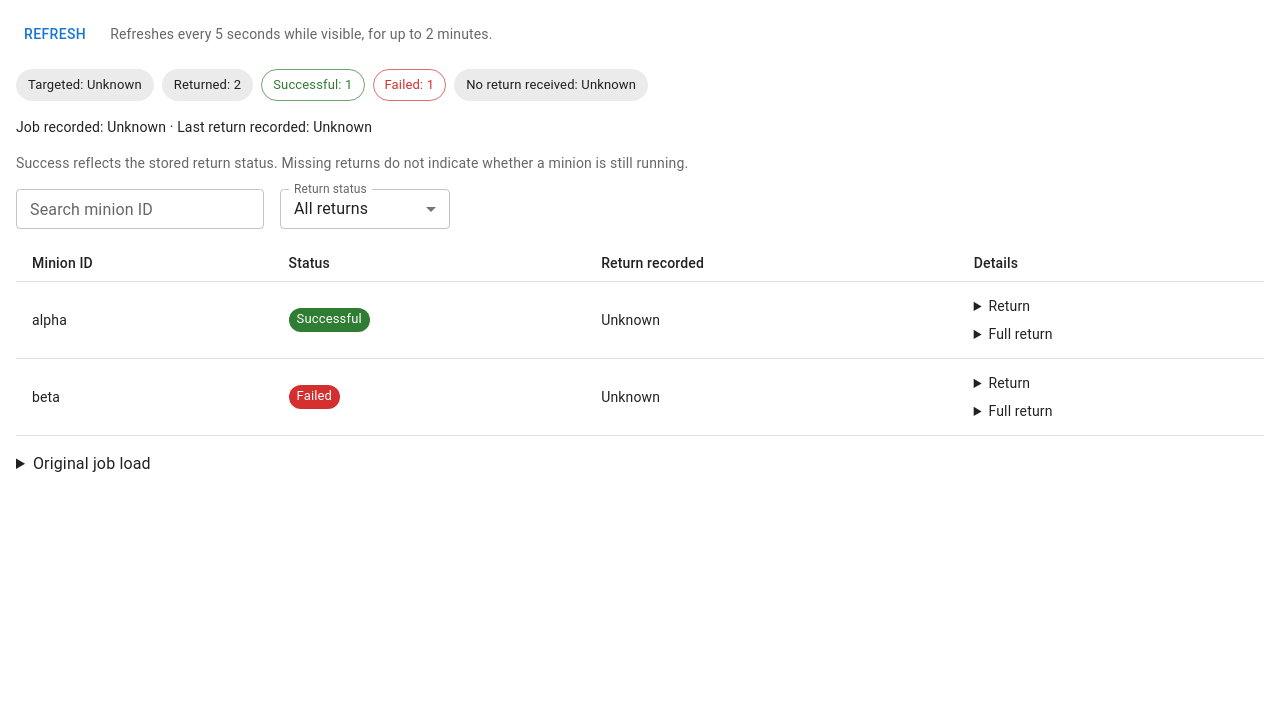
it: keeps unknown counts distinct, filters returns locally, and preserves results on refresh errors
This screenshot has width=1280, height=720.
Expected: the text "Targeted: Unknown" is shown, [28,77,142,92]
Expected: the text "No return received: Unknown" is shown, [454,75,648,94]
Type "beta" into the field labelled "Search minion ID" at {"x": 140, "y": 208}, box [16,188,264,228]
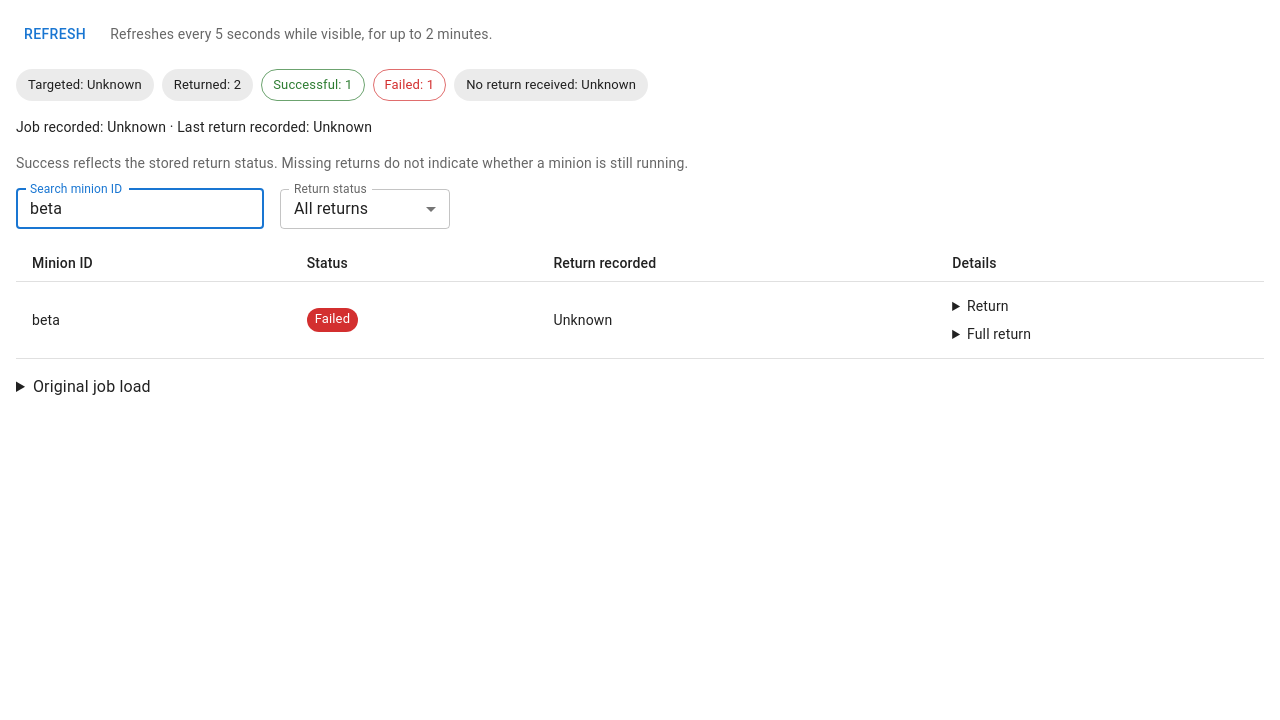
Expected: the text "beta" is shown, [16,281,291,358]
Now the text "alpha" is gone
Click the heading "Return" at {"x": 988, "y": 306}, box [967,298,1009,314]
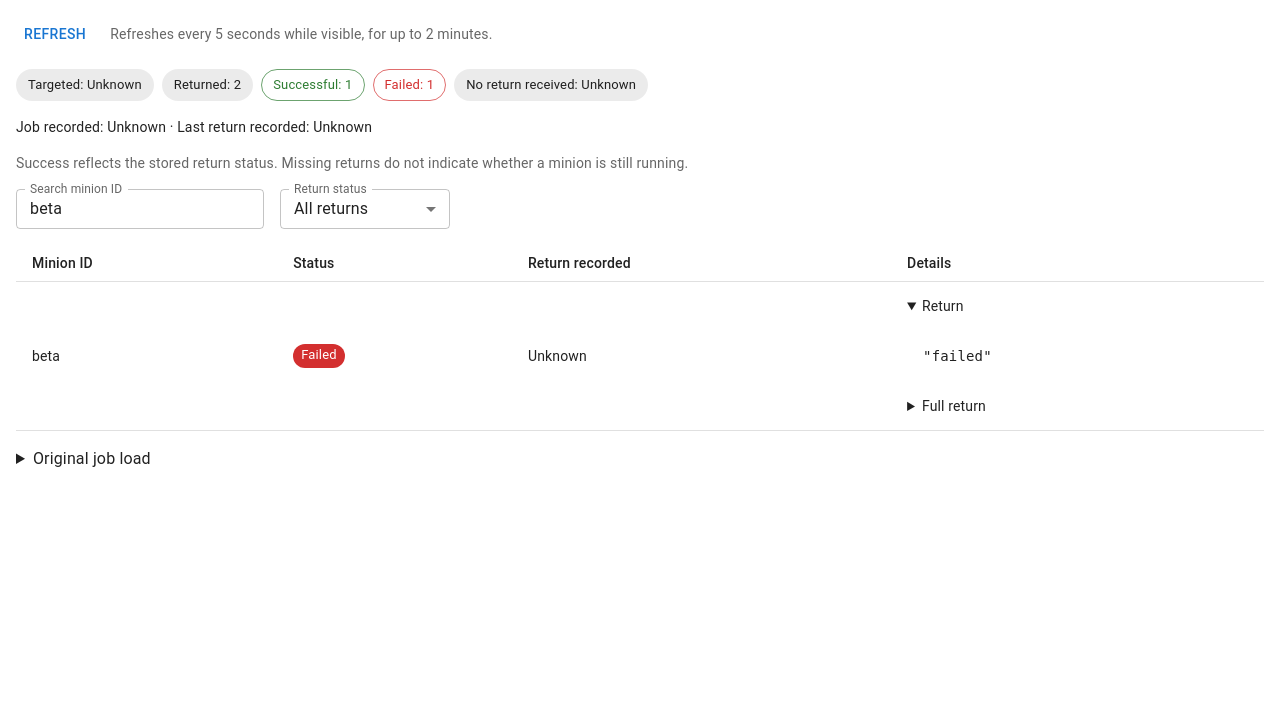
Now the text "\"failed\"" is shown, box [907,330,1248,382]
Click the button "Refresh" at {"x": 55, "y": 34}, box [16,16,94,52]
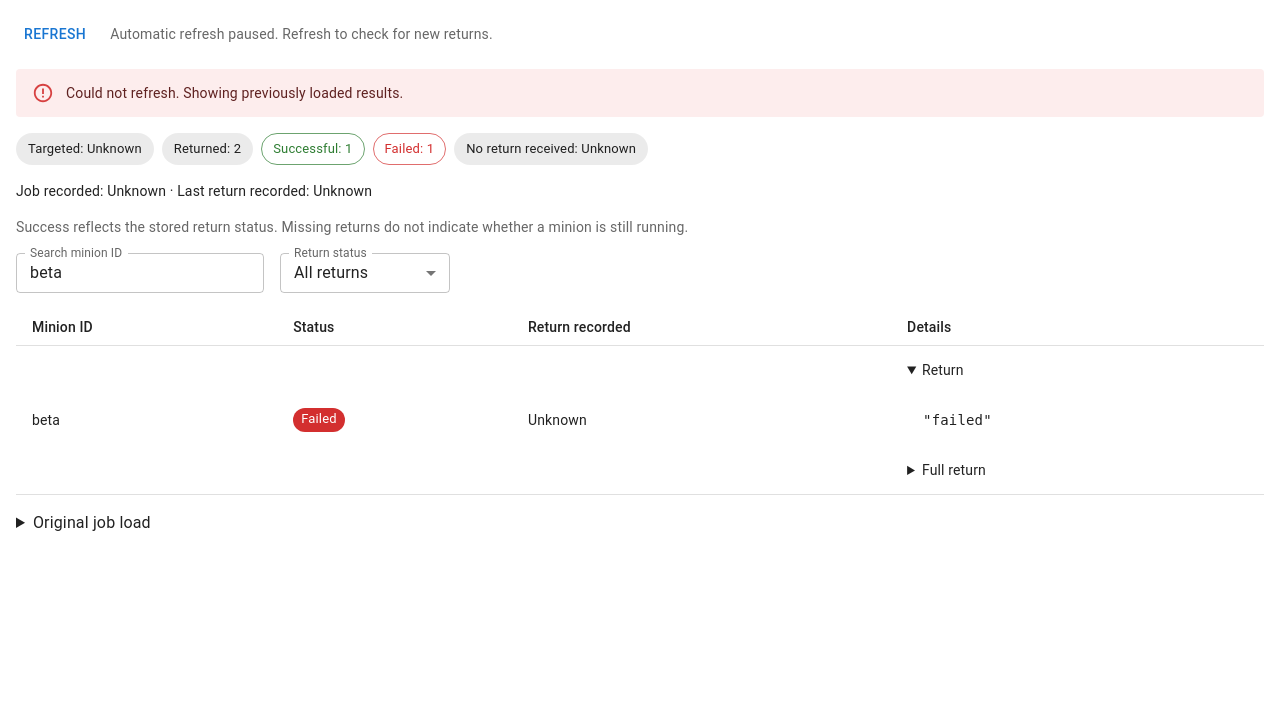
Expected: the text "beta" is shown, [16,345,277,494]
Now the text "Could not refresh. Showing previously loaded results." is shown, box [66,84,403,100]
